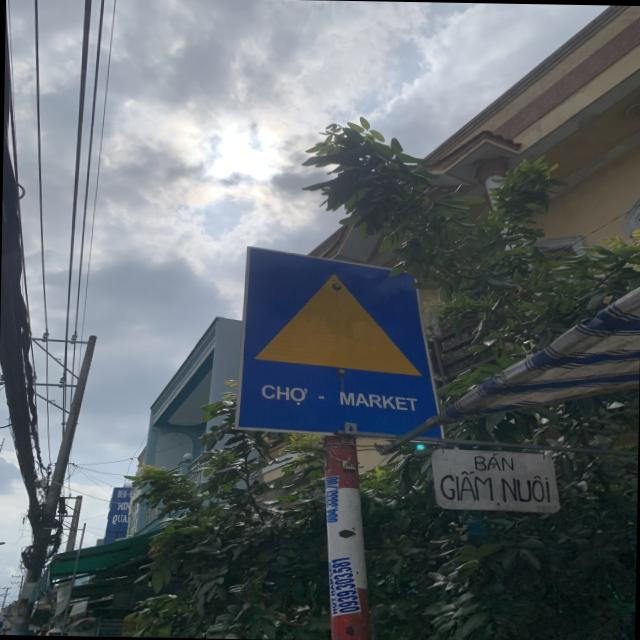Cho_Quay_Xe: (240, 250, 444, 438)
